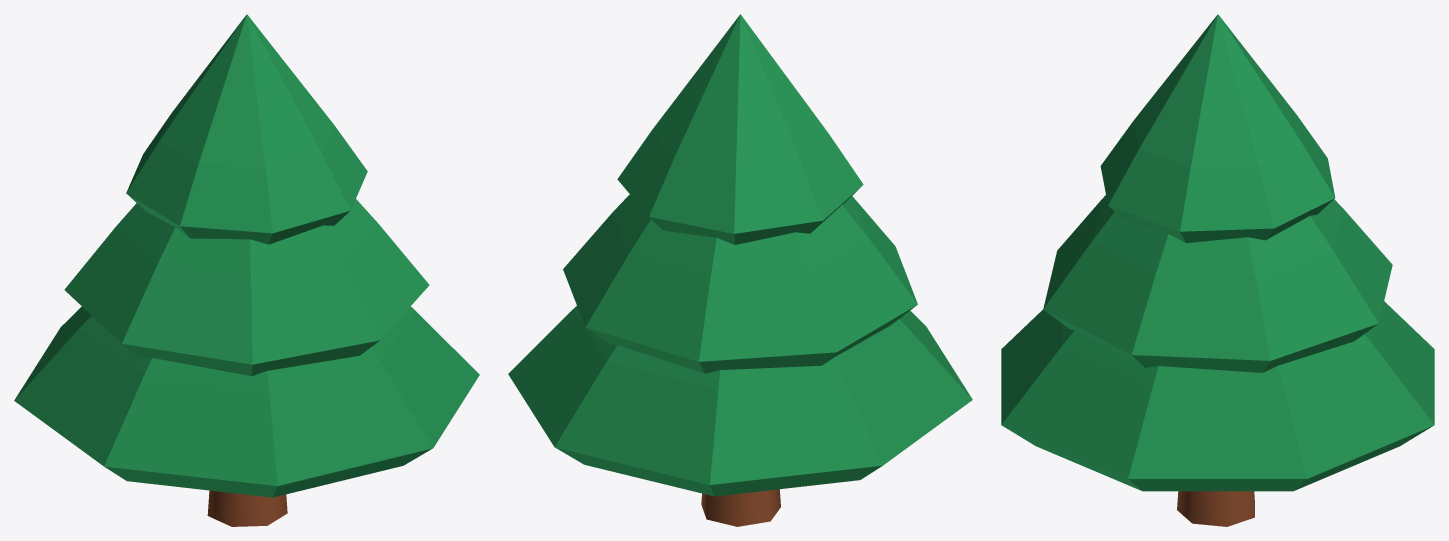
The model's file is tree_pine_b.glb.
The picture shows the model from 3 angles, left to right: view 1: azimuth 30°, elevation 25°; view 2: azimuth 150°, elevation 25°; view 3: azimuth 270°, elevation 25°; orthographic projection.
Parts seen in each view (by area): view 1: tree_pine_b; view 2: tree_pine_b; view 3: tree_pine_b.
Part boxes in pixels (left/top/right/bottom): tree_pine_b: left=14, top=14, right=479, bottom=526; tree_pine_b: left=508, top=14, right=972, bottom=526; tree_pine_b: left=1001, top=14, right=1434, bottom=526.
Bounding box in the file's own units: 1.11 × 1.4 × 1.11.
